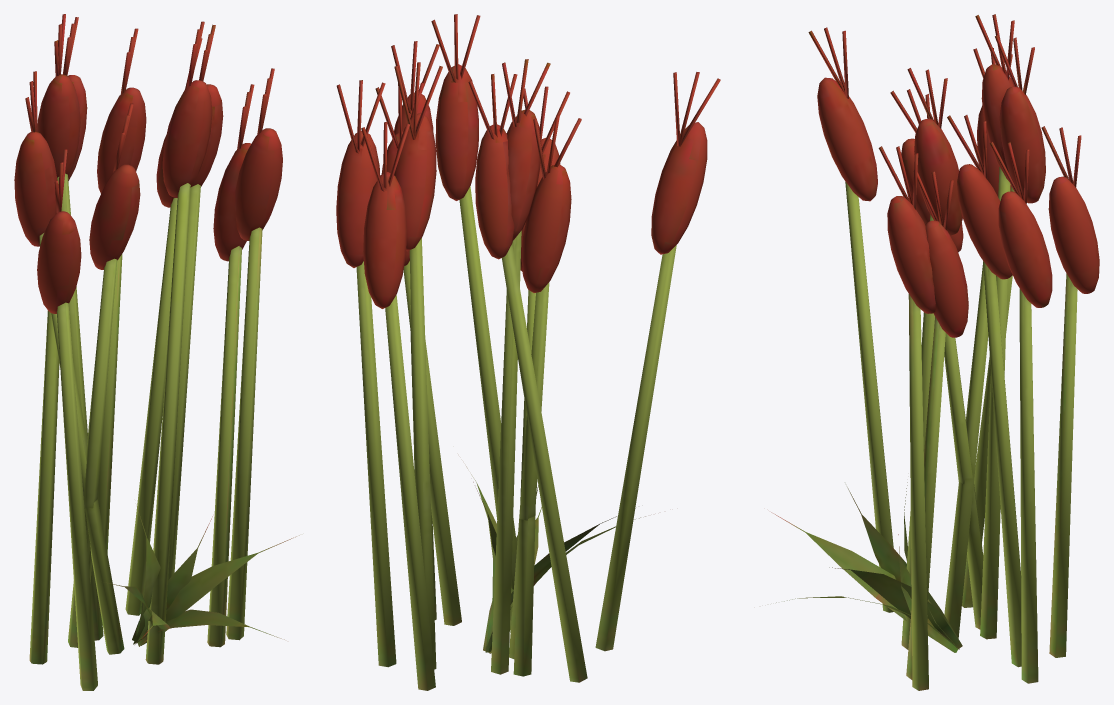
File: crop_sorghum.glb
The picture shows the model from 3 angles, left to right: view 1: azimuth 30°, elevation 25°; view 2: azimuth 150°, elevation 25°; view 3: azimuth 270°, elevation 25°; orthographic projection. The views are drawn at different scales.
Visible parts, largest first — view 1: crop_sorghum, fruit; view 2: crop_sorghum, fruit; view 3: crop_sorghum, fruit.
Boxes of the visible parts, left/top/right/bottom form: crop_sorghum: left=29, top=173, right=299, bottom=690; fruit: left=14, top=14, right=282, bottom=313; crop_sorghum: left=356, top=186, right=676, bottom=690; fruit: left=336, top=14, right=720, bottom=308; crop_sorghum: left=771, top=167, right=1077, bottom=690; fruit: left=808, top=14, right=1099, bottom=337.
Bounding box in the file's own units: 0.2041 × 0.4404 × 0.2293.
Materials: 1 (1 with a texture image).
